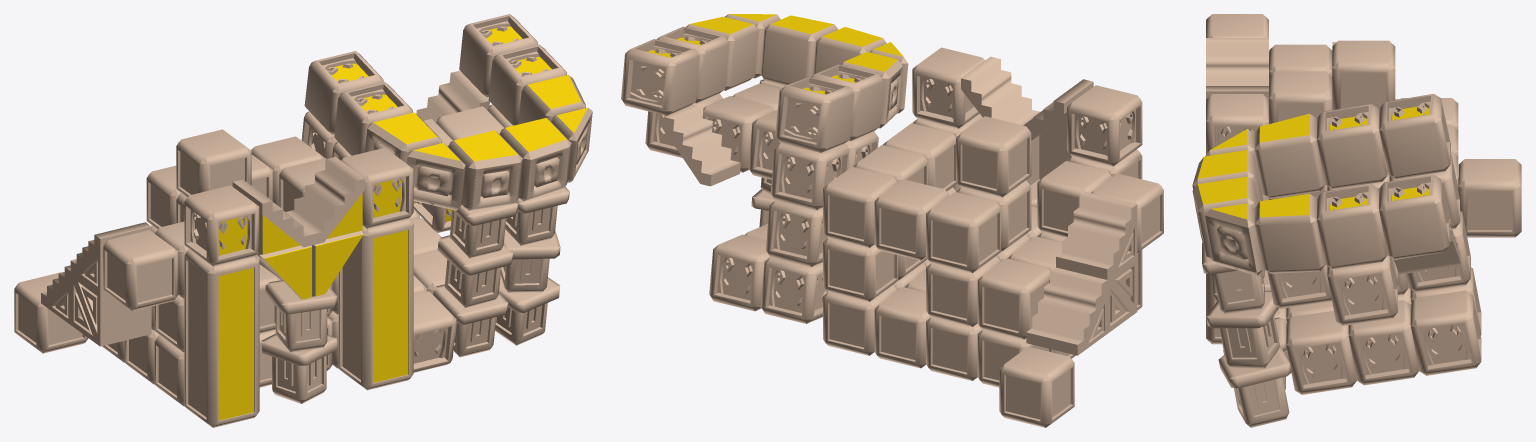
The model's file is Mu_Icon.fbx.
3 renders of one model, left to right at view 1: azimuth 30°, elevation 25°; view 2: azimuth 150°, elevation 25°; view 3: azimuth 270°, elevation 25°, orthographic. The views are drawn at different scales.
Visible parts, largest first — view 1: Mu_icon; view 2: Mu_icon; view 3: Mu_icon.
Part boxes in pixels (box(x1,y1,x2,y2)): Mu_icon: box(14, 14, 592, 427); Mu_icon: box(621, 14, 1163, 427); Mu_icon: box(1192, 14, 1521, 427).
Size of the model in its own units: 90 by 45.93 by 52.14.
